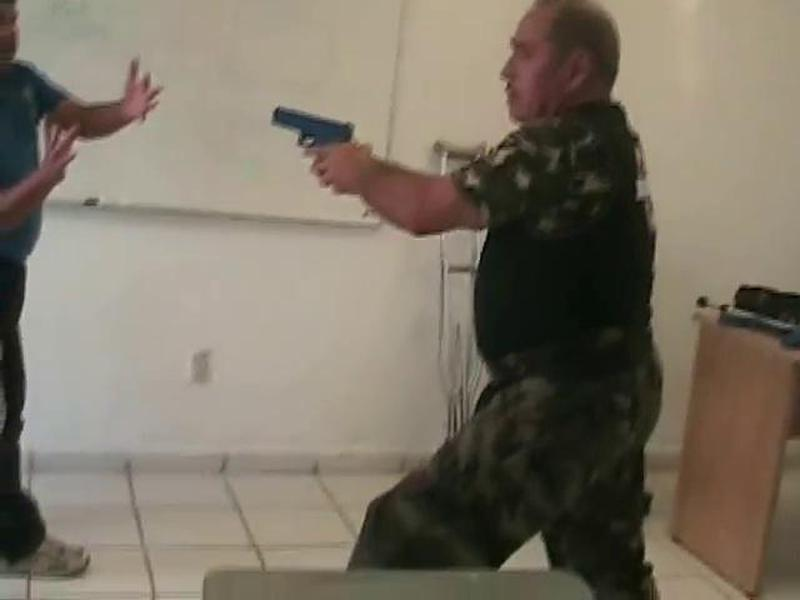Pistola: (271, 100, 357, 165)
